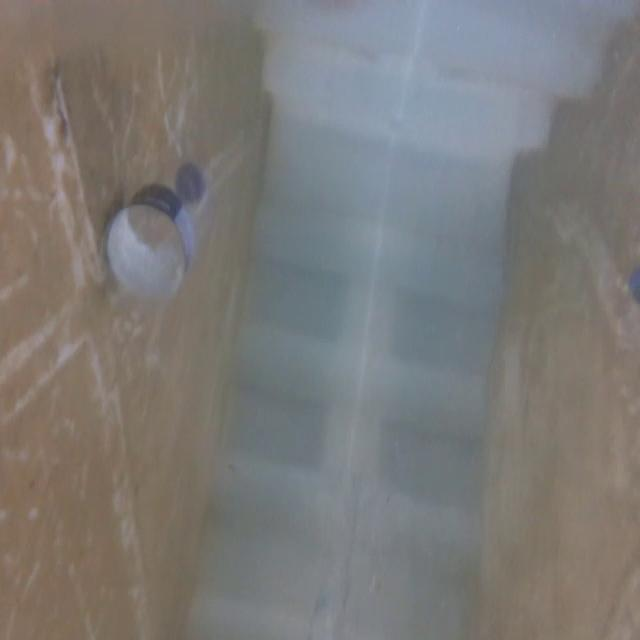plastic bottle: (73, 155, 210, 355)
